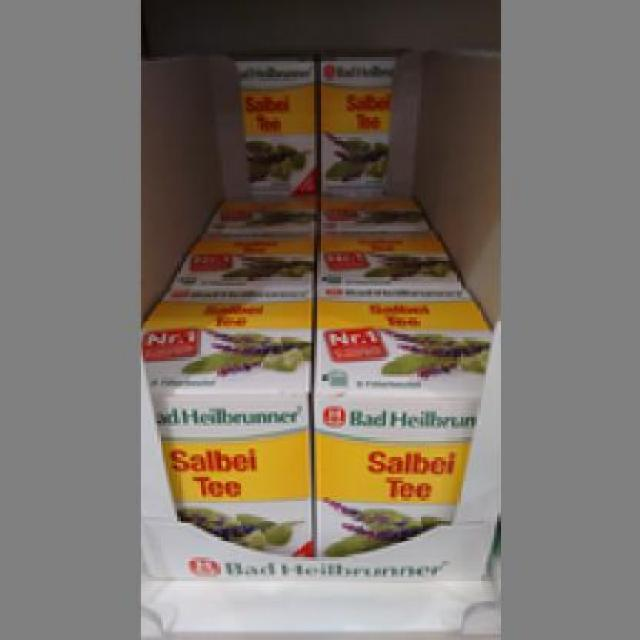Tea: (138, 296, 312, 570), (312, 297, 488, 566), (314, 54, 394, 194), (234, 52, 312, 192)
